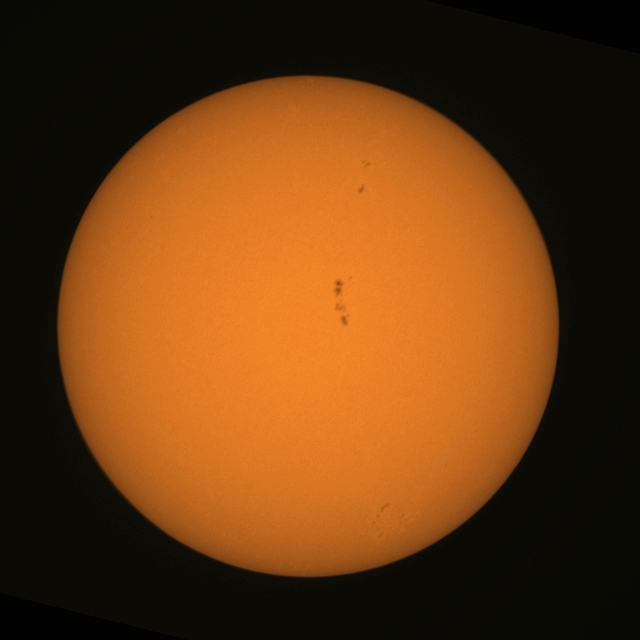sunspot: (331, 276, 348, 315), (334, 298, 351, 327), (374, 502, 390, 522), (360, 159, 372, 169), (356, 184, 366, 195), (378, 532, 384, 540)
